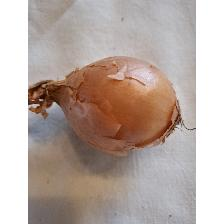Zwiebel: (28, 55, 196, 160)
